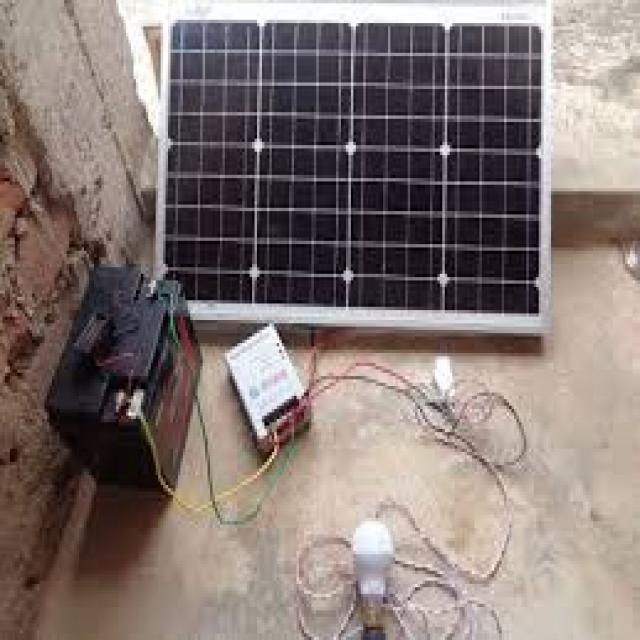no faulty: (159, 30, 532, 295)
